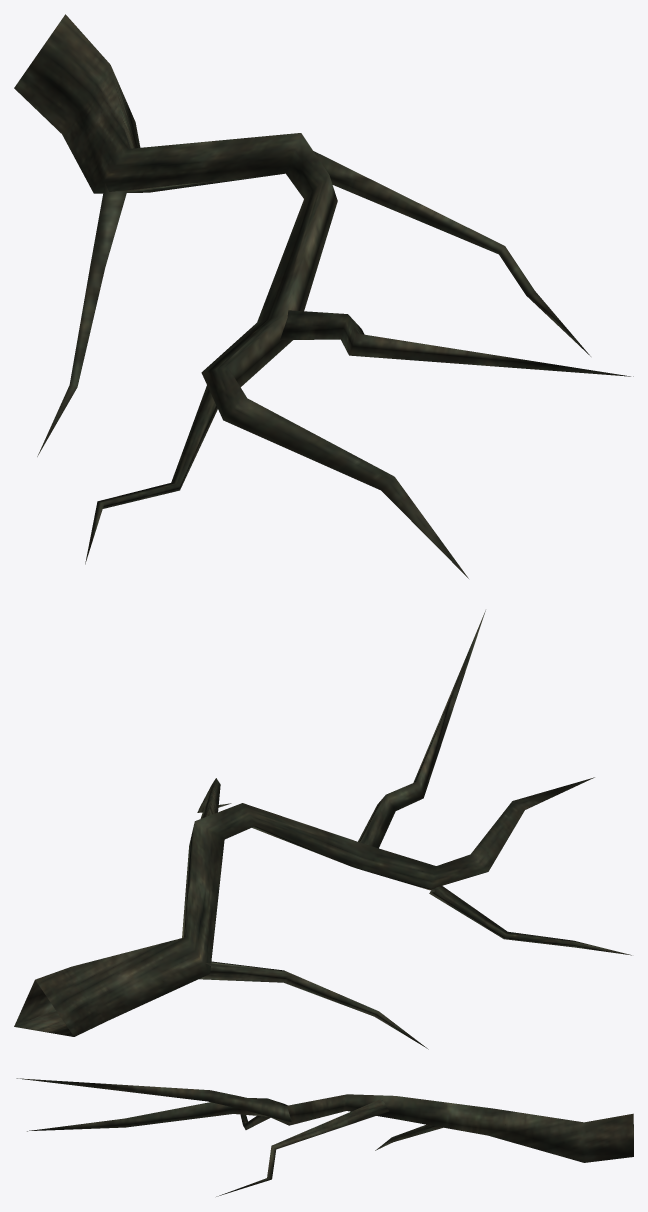
File: Roots_sm1A_LOD1.fbx
3 renders of one model, top to bottom at view 1: azimuth 30°, elevation 25°; view 2: azimuth 150°, elevation 25°; view 3: azimuth 270°, elevation 25°, orthographic. The views are drawn at different scales.
Parts seen in each view (by area): view 1: polySurface82; view 2: polySurface82; view 3: polySurface82.
Boxes of the visible parts, x1,y1,x2,y2 form: polySurface82: (14, 14, 633, 578); polySurface82: (14, 610, 631, 1049); polySurface82: (16, 1078, 633, 1196).
Bounding box in the file's own units: 2.57 × 1.26 × 5.01.
